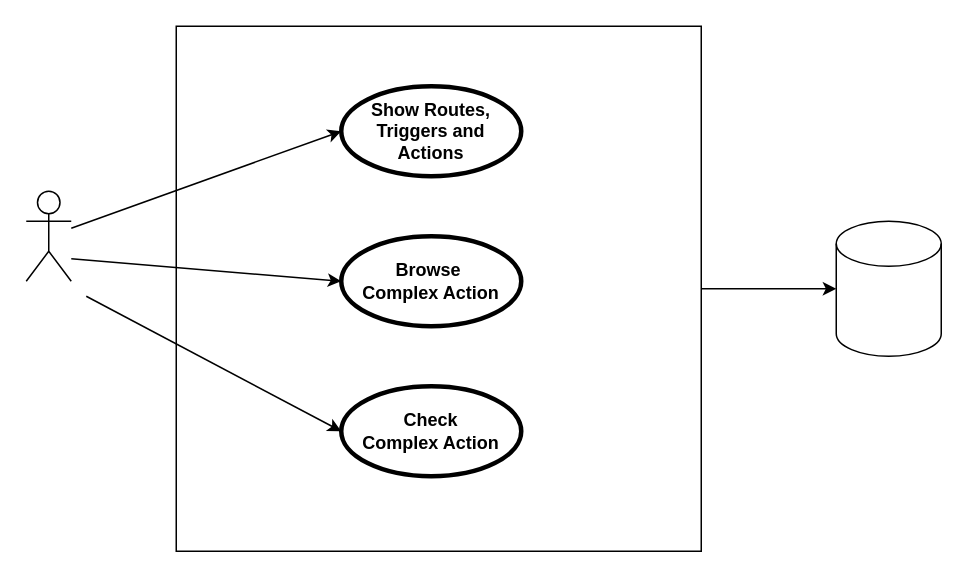
Image size: 968x578. Some labels were removed from this diagram. The box of each missing label's shape, as (x1, y1, x2, y2) in pixels:
mobile SQLite DB: (835, 220, 941, 356)
User: (25, 190, 71, 281)
